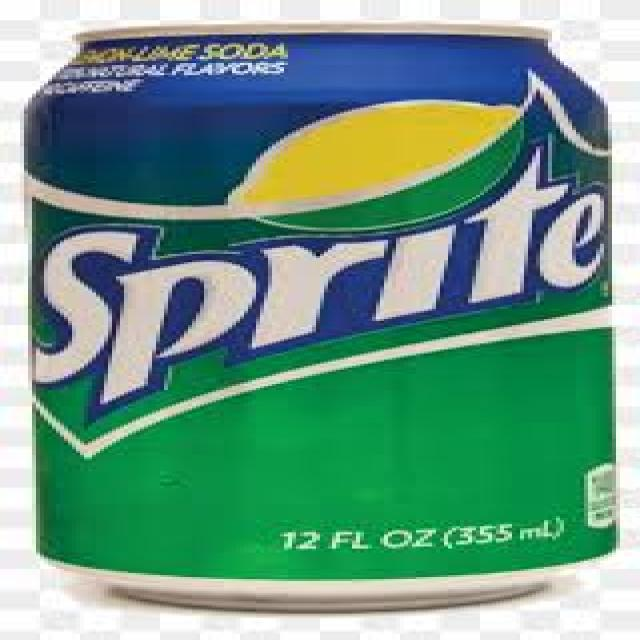aluminum_can: (24, 22, 616, 612)
